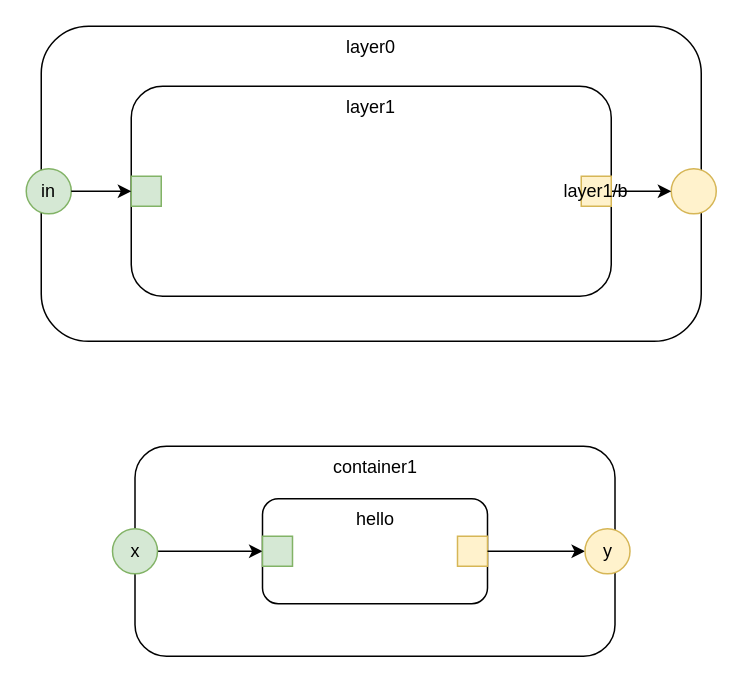
Some shapes in this 743 by 683 pixel diagram are drawn without their labels. The shapes that lost their labels are listed below. From the top down, each one's centre as x and y in pixels, then its label:
At (x=145, y=190): "layer1/a".
At (x=693, y=190): "out".
At (x=276, y=550): "hello/r".
At (x=472, y=550): "hello/s".
